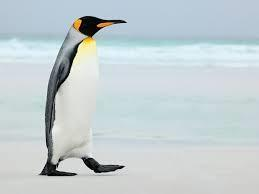king: (36, 9, 142, 181)
